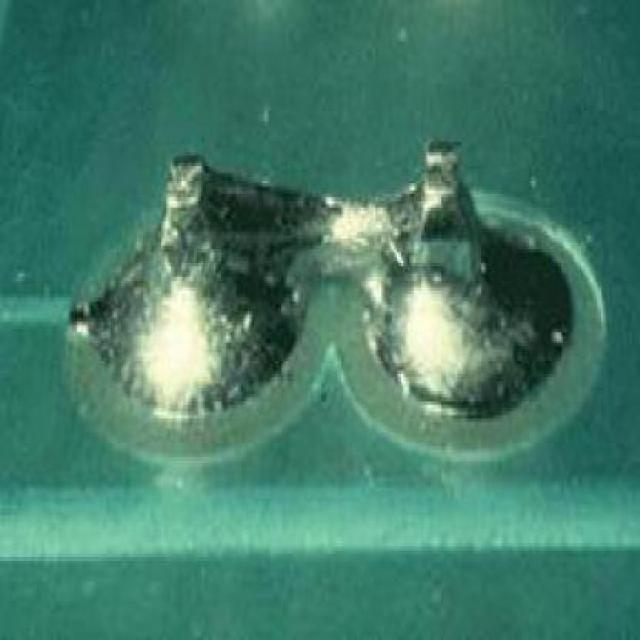Soldering shorted: (74, 117, 588, 426)
